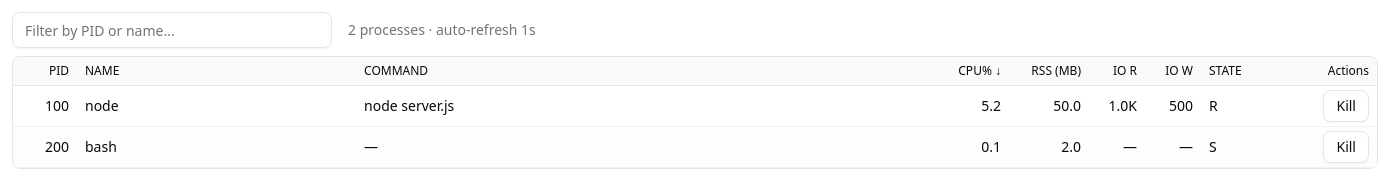
Test: ProcessTable › filters by name when filter input is used
The image size is (1378, 186).
Expected: the text "node" is shown, [77,86,356,126]
Type "node" into the field with placeholder "Filter by PID or name..." at point(172, 30), box [12,12,332,48]
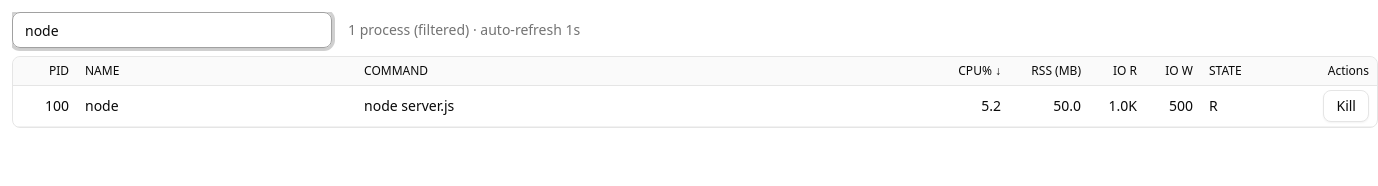
Expected: the text "node" is shown, [77,86,356,126]
Now the text "bash" is gone
